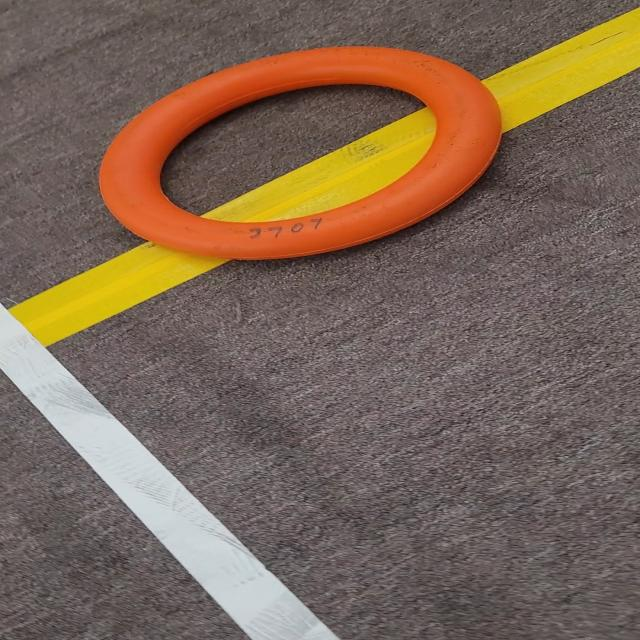note: (79, 43, 527, 278)
